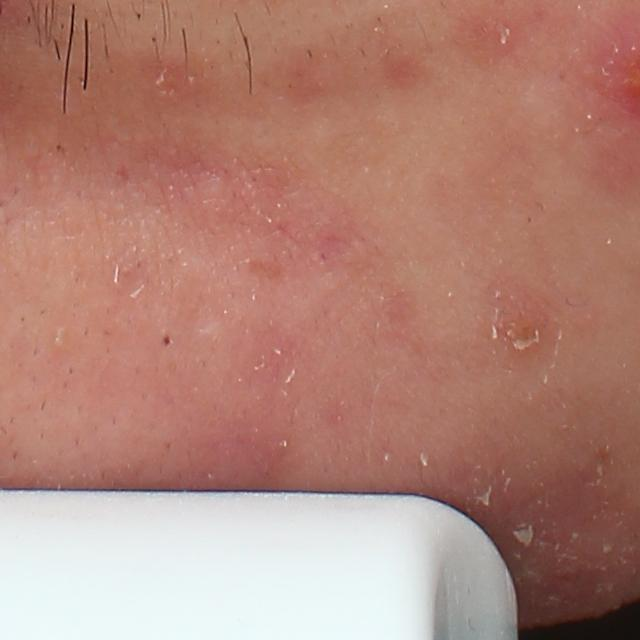comedo: (159, 331, 177, 353)
